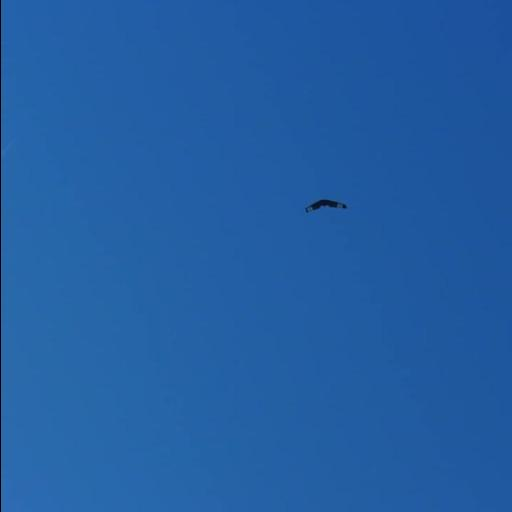uav: (298, 196, 352, 218)
